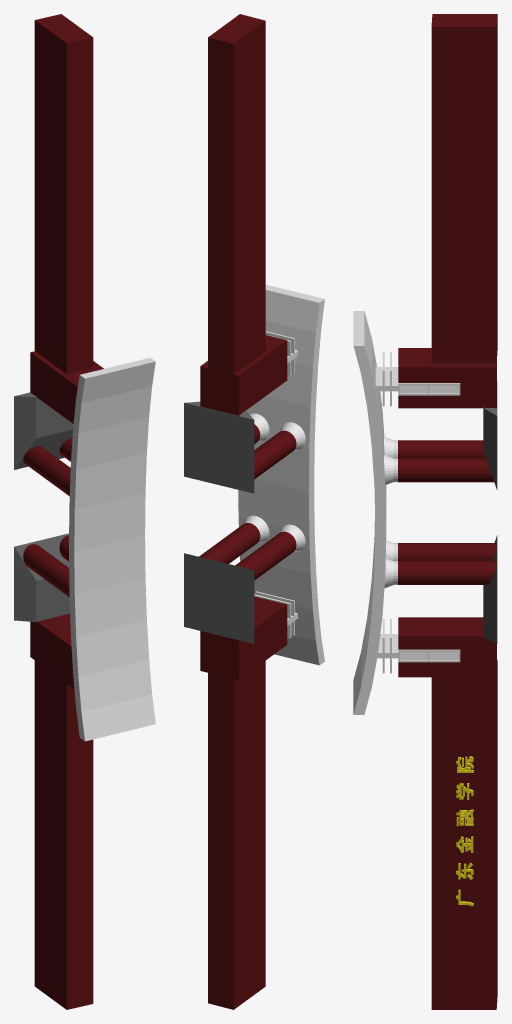
Rendered from 广东金融大门.glb.
3 views of the same model, side by side, from view 1: azimuth 30°, elevation 25°; view 2: azimuth 150°, elevation 25°; view 3: azimuth 270°, elevation 25° (orthographic).
Parts seen in each view (by area): view 1: 立方体.001; view 2: 立方体.001; view 3: 立方体.001, 广东金融学院.
Part boxes in pixels (x1,y1,x2,y2): 立方体.001: (14, 14, 155, 1009); 立方体.001: (184, 14, 324, 1009); 立方体.001: (353, 14, 497, 1009); 广东金融学院: (456, 756, 473, 906).
Bounding box in the file's own units: 1.69 × 21.99 × 2.92.
